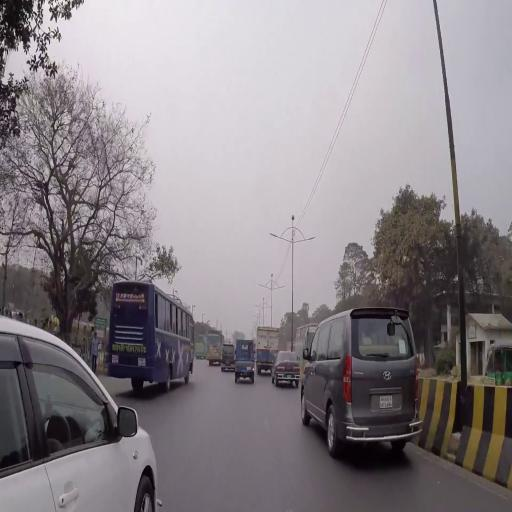bus: (108, 280, 197, 394), (206, 330, 226, 367), (297, 324, 320, 352)
car: (2, 307, 162, 511), (272, 351, 303, 389)
minivan: (300, 308, 424, 449), (222, 343, 237, 373)
pickup: (257, 325, 281, 377), (235, 339, 257, 383)
three wheelers (CNG): (483, 340, 512, 387)
